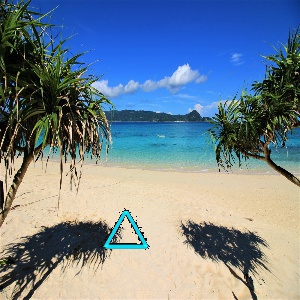triangle: (99, 206, 151, 253)
